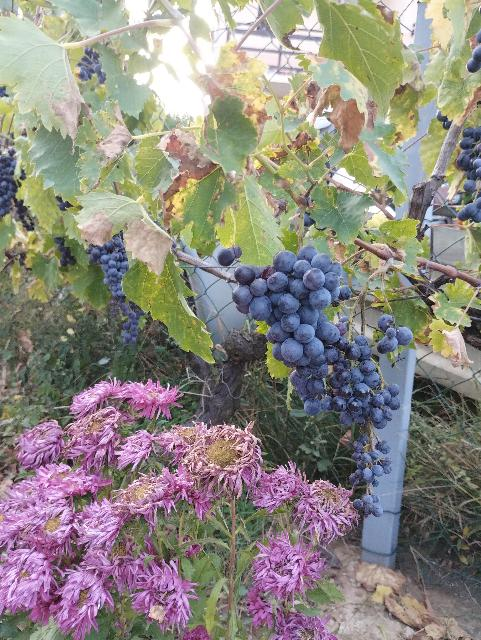grapes: (232, 245, 342, 415), (329, 335, 401, 518), (88, 235, 145, 344), (378, 314, 414, 354)
